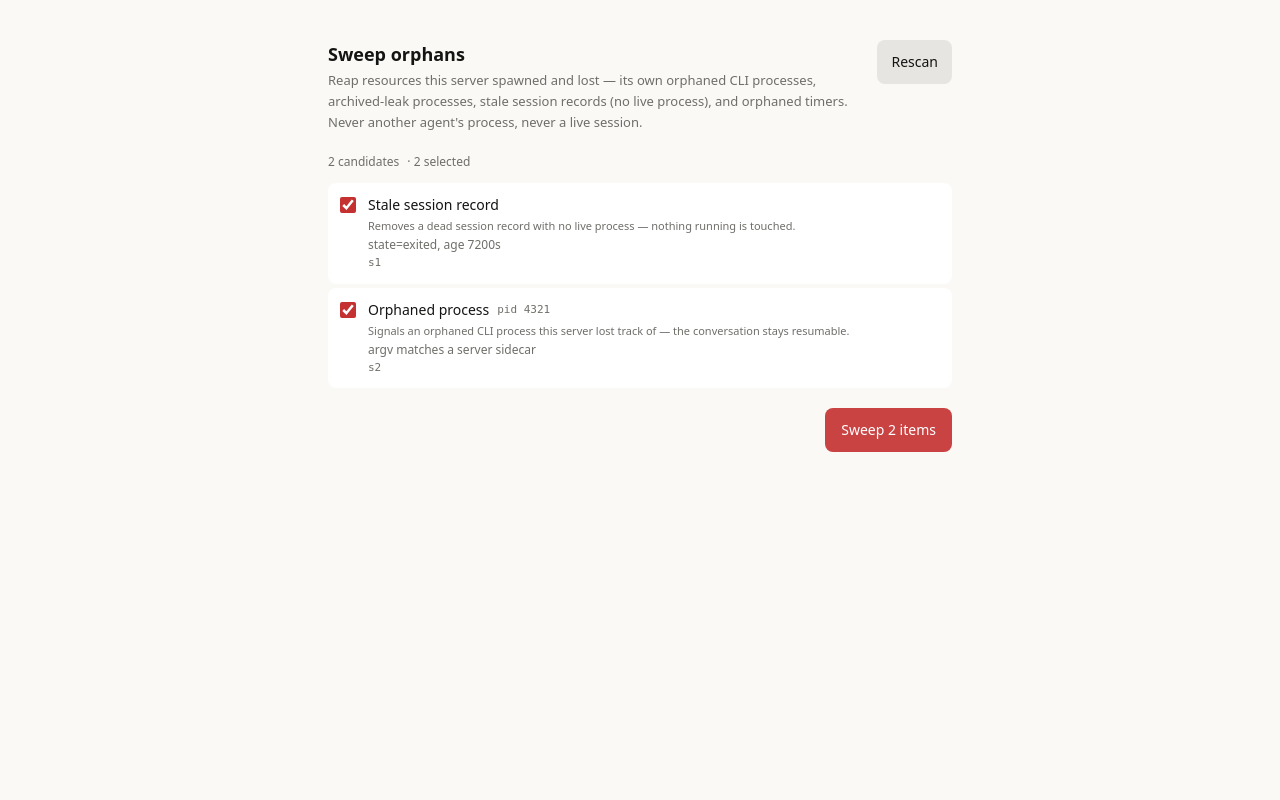
Test case: SweepPage render & accessibility › the open confirm dialog passes an axe scan (portal, role=dialog)
Click the button "Sweep 2 items".
click(889, 430)  # box [825,408,952,452]
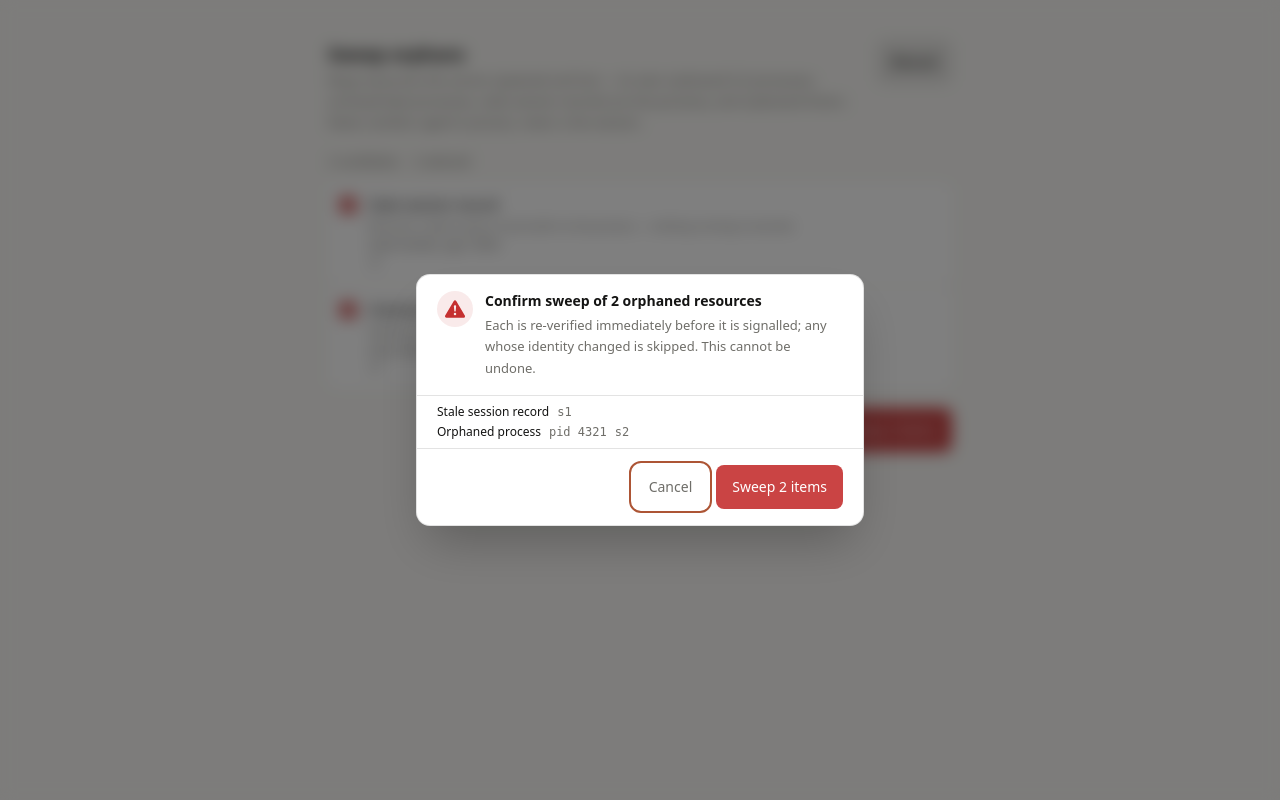
Check: the dialog is shown, box [416,274,864,526]
